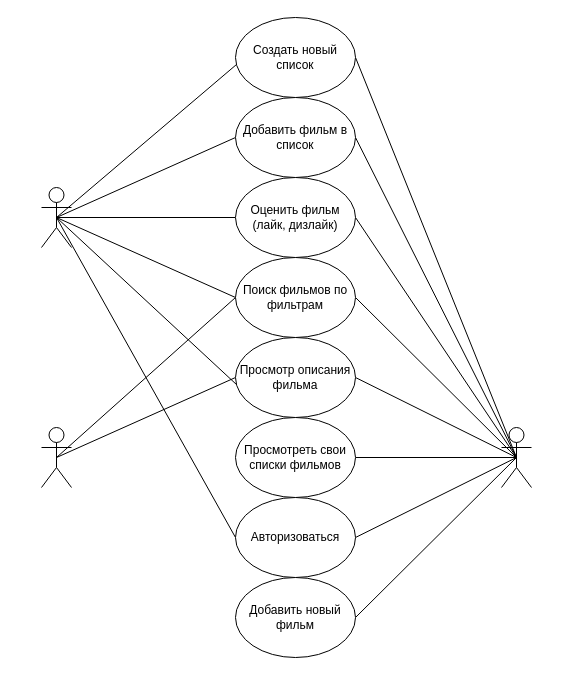
Some shapes in this 577 by 675 pixel diagram are drawn without their labels. The shapes that lost their labels are listed below. From the top down, each one's centre as x and y in pixels, then its label:
At point 56,217: "Пользователь".
At point 56,457: "Гость".
At point 516,457: "Администратор".
